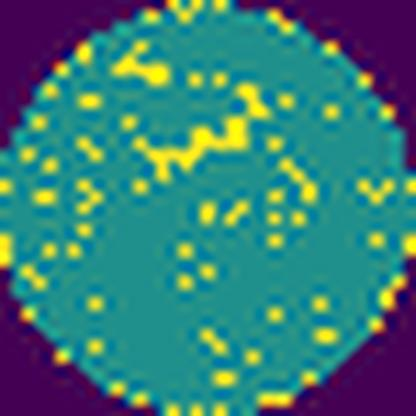Loc: (135, 83, 272, 181), (108, 40, 172, 89)
